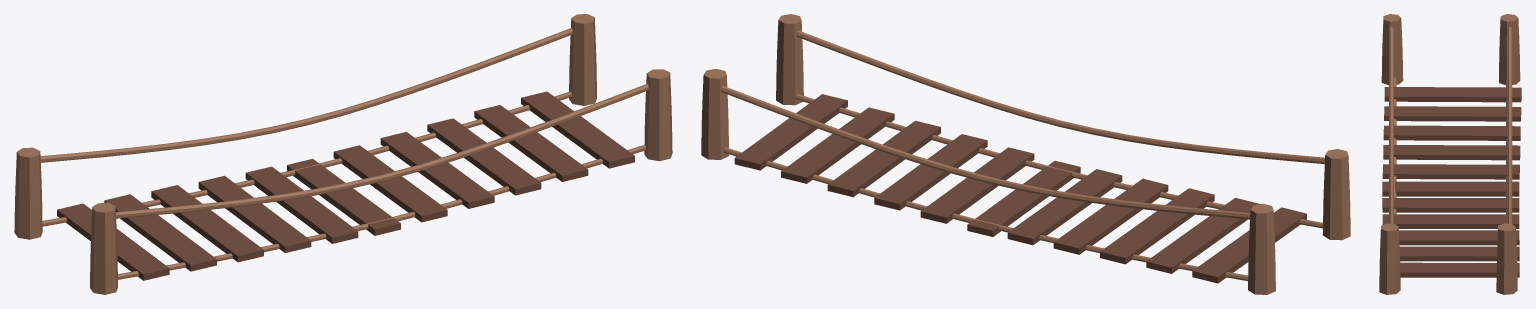
File: jembatan.fbx
The picture shows the model from 3 angles, left to right: view 1: azimuth 30°, elevation 25°; view 2: azimuth 150°, elevation 25°; view 3: azimuth 270°, elevation 25°; orthographic projection. The views are drawn at different scales.
Visible parts, largest first — view 1: Cylinder.001; view 2: Cylinder.001; view 3: Cylinder.001.
Boxes of the visible parts, x1,y1,x2,y2 form: Cylinder.001: (14, 14, 672, 294); Cylinder.001: (701, 14, 1350, 294); Cylinder.001: (1379, 14, 1521, 294).
Bounding box in the file's own units: 2755 × 403 × 758.
